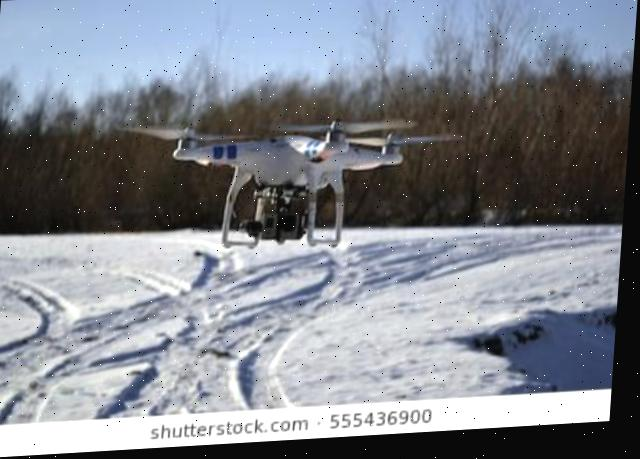drone: (93, 83, 473, 270)
